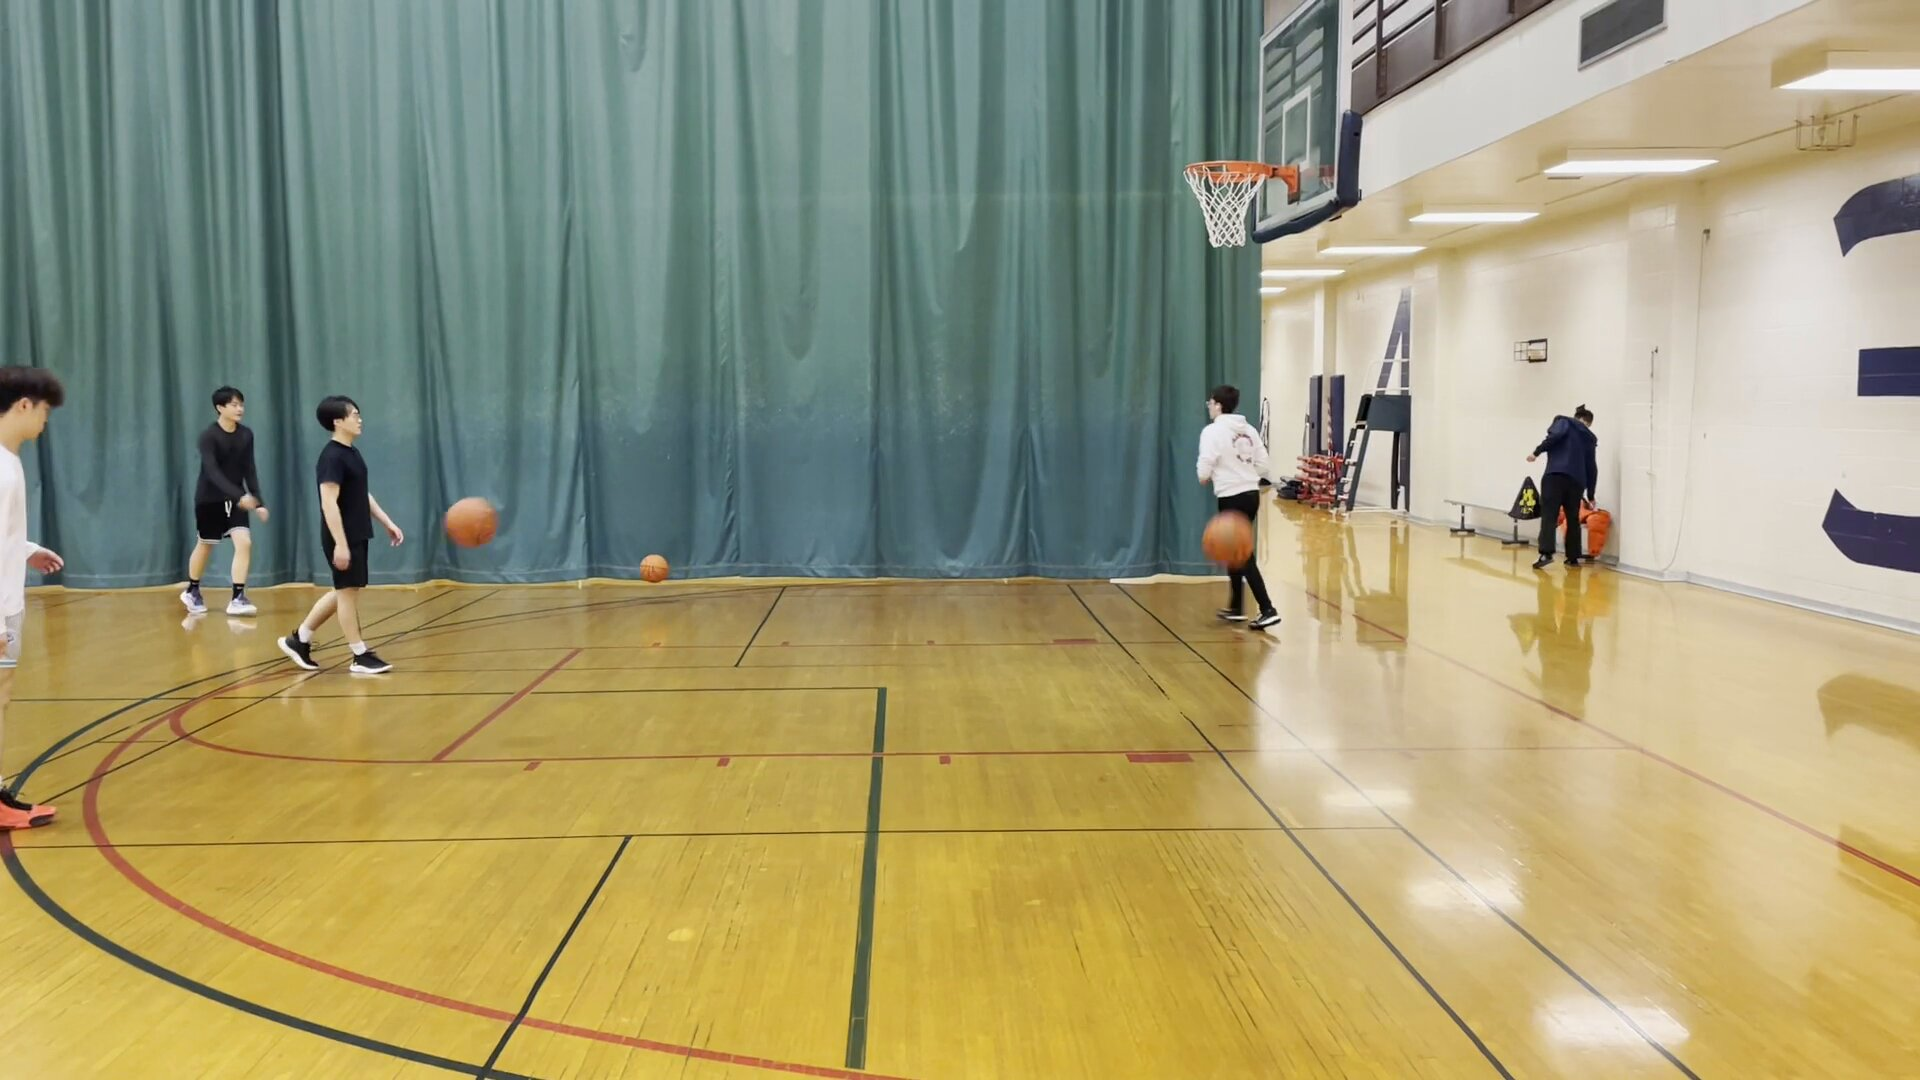ball: (1197, 512, 1263, 572), (440, 497, 505, 550), (636, 555, 669, 584)
net: (1202, 221, 1244, 255)
player: (1, 367, 78, 840), (282, 389, 397, 683), (172, 374, 269, 631), (1195, 384, 1288, 644), (1533, 393, 1595, 572)
rim: (1177, 153, 1277, 189)
